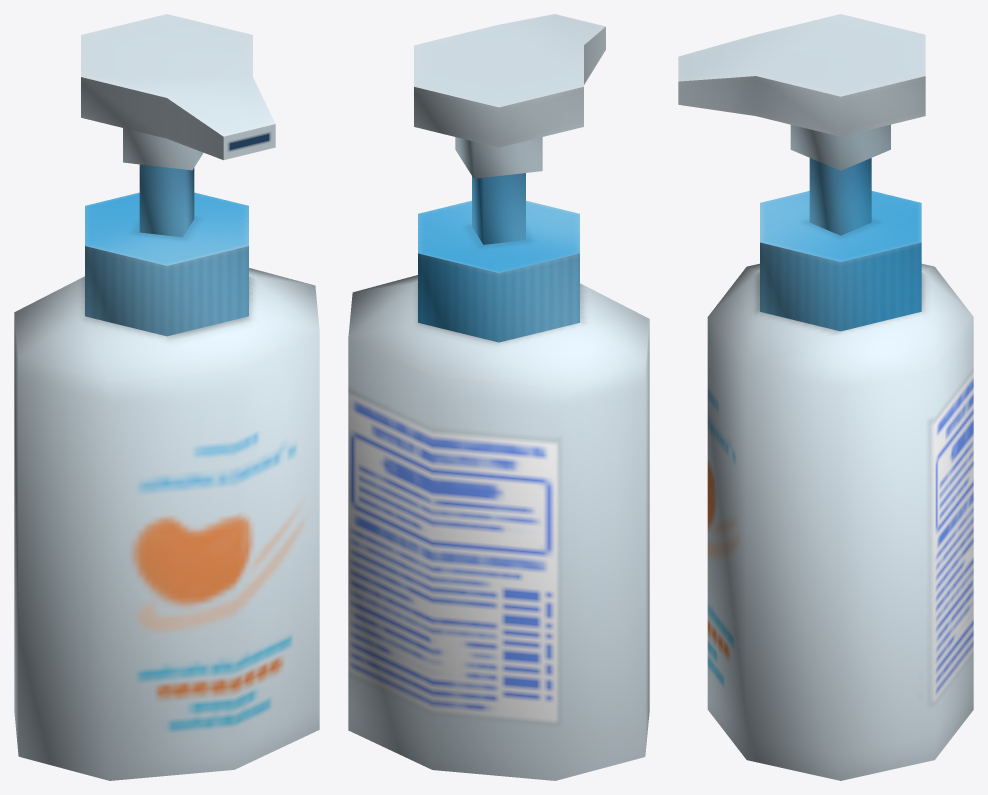
File: SHW_Hand_soap_01_01.fbx
3 views of the same model, side by side, from view 1: azimuth 30°, elevation 25°; view 2: azimuth 150°, elevation 25°; view 3: azimuth 270°, elevation 25° (orthographic).
Visible parts, largest first — view 1: shw_hand_soap_01_01; view 2: shw_hand_soap_01_01; view 3: shw_hand_soap_01_01.
Boxes of the visible parts, x1=… form: shw_hand_soap_01_01: x1=14, y1=14, x2=319, y2=780; shw_hand_soap_01_01: x1=348, y1=14, x2=649, y2=780; shw_hand_soap_01_01: x1=678, y1=14, x2=973, y2=780.
Bounding box in the file's own units: 8.51 × 18.2 × 7.45.
